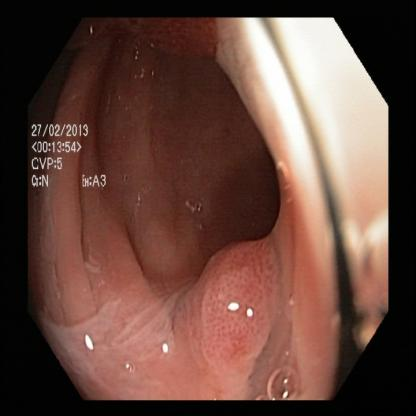Labels: (28, 116, 111, 190)
Polyps: (180, 244, 286, 380)
